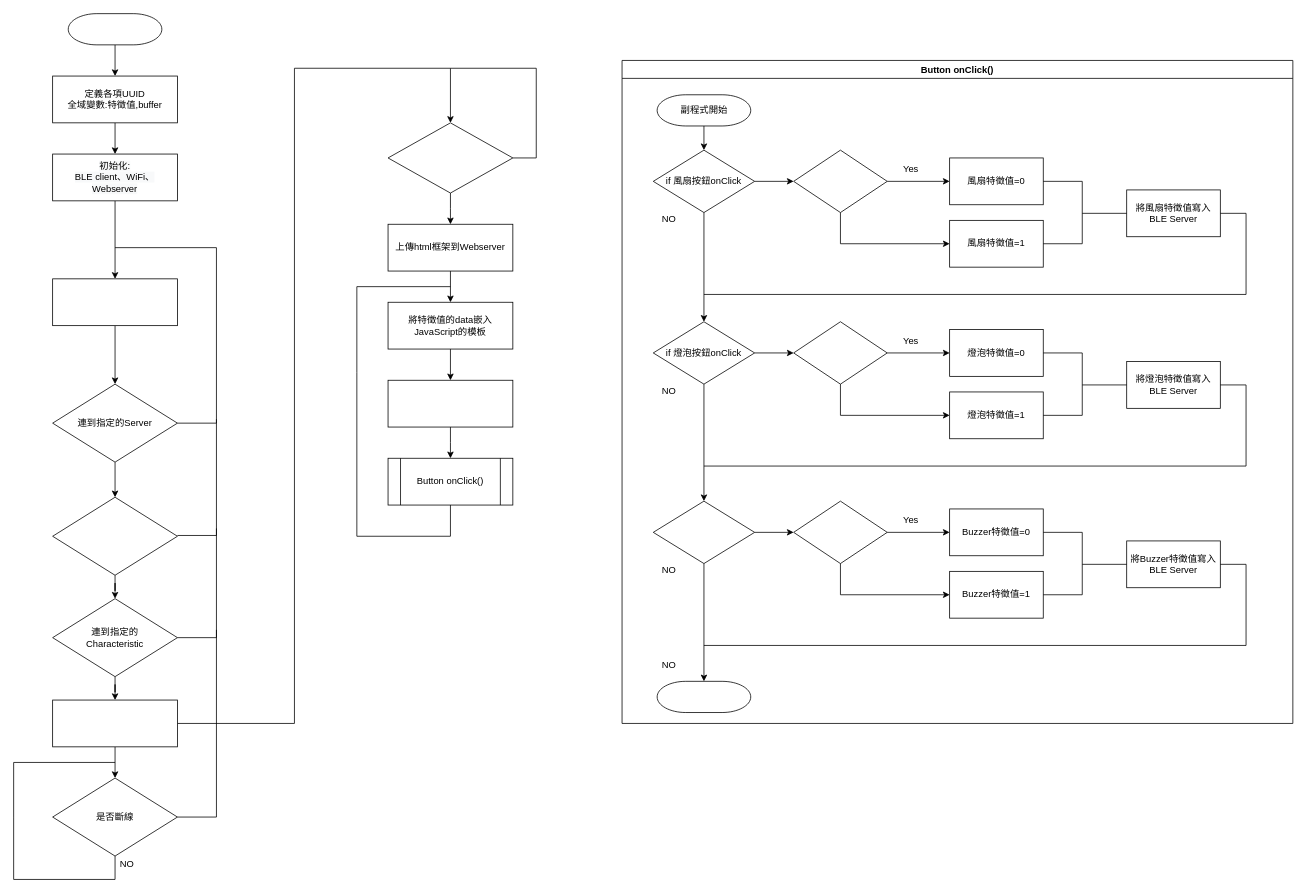
The diagram is 1307 pixels wide and 894 high, and some of its shapes have lost their labels. Here are the shapes that lost their labels. From the top down, the centre of each, then its label:
the point at 114,29: 程式開始
the point at 450,157: 是否連到指定WiFi
the point at 840,181: if 風扇特偵值=1
the point at 114,302: 搜尋BLE裝置
the point at 840,352: if 燈泡特偵值=1
the point at 450,403: 發送JavaScript到Webserver
the point at 114,535: 連到指定的Service
the point at 703,532: if Buzzer按鈕onClick
the point at 840,532: if Buzzer特偵值=1
the point at 703,697: 副程式結束
the point at 114,723: 接收各特徵值的data
